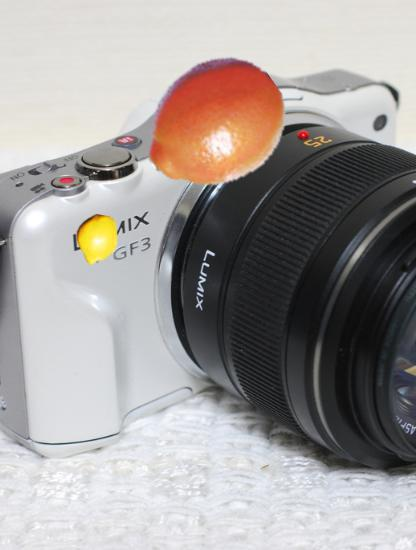Quince: (71, 214, 123, 266)
Tangelo: (141, 52, 289, 200)
